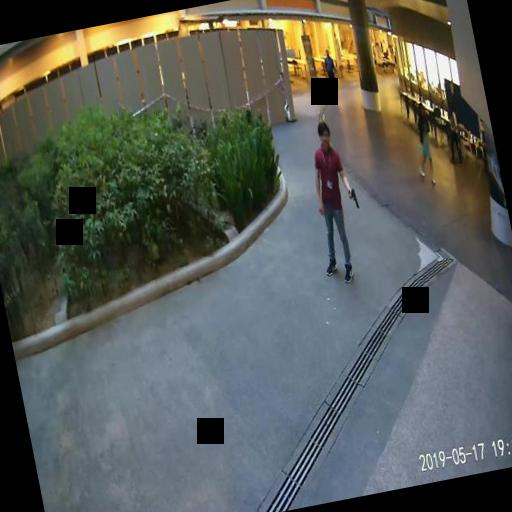Handgun: (346, 187, 358, 208)
